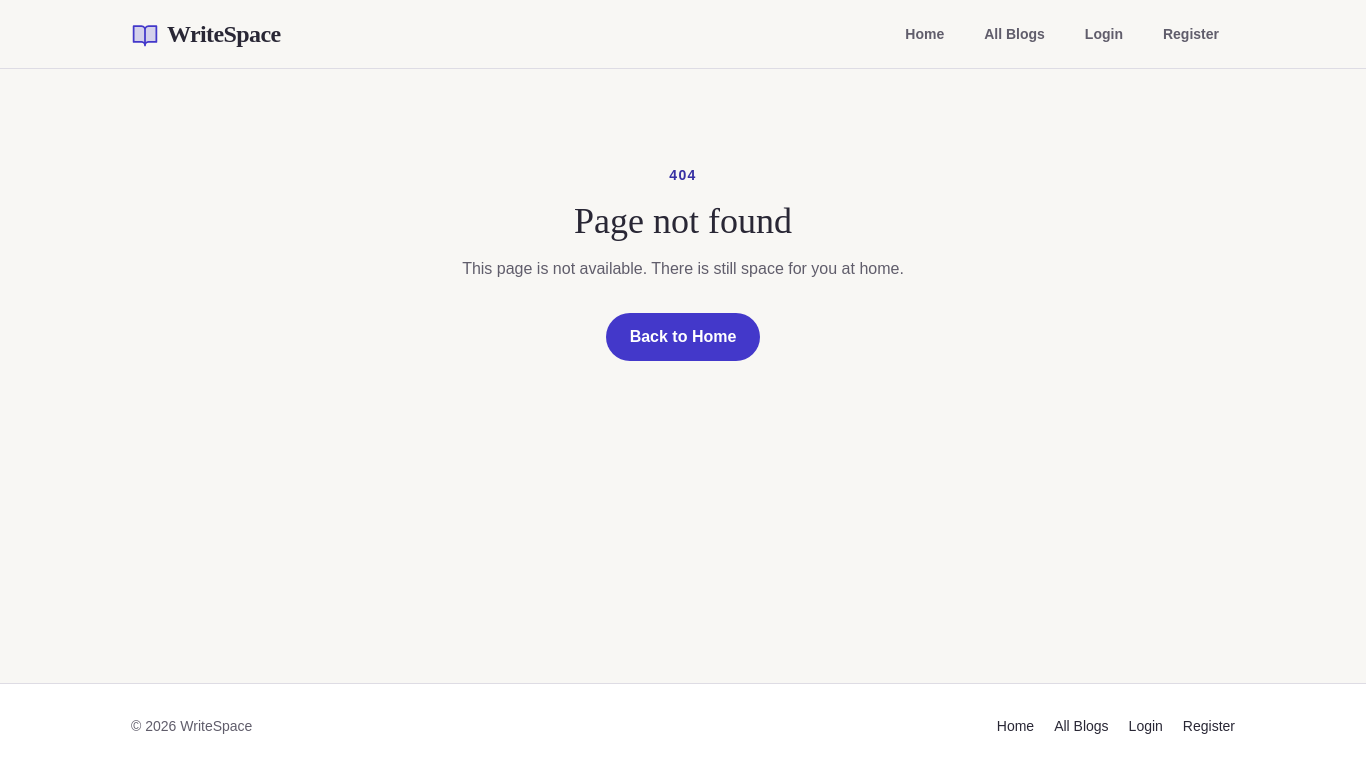
Scenario: working discovery shell › unknown routes render fallback with unchanged stored collections
Expected: the heading "Page not found" is shown, left=574, top=201, right=792, bottom=241
Click the link "Back to Home" at x=683, y=337, box left=606, top=313, right=760, bottom=361
(page scrolled)
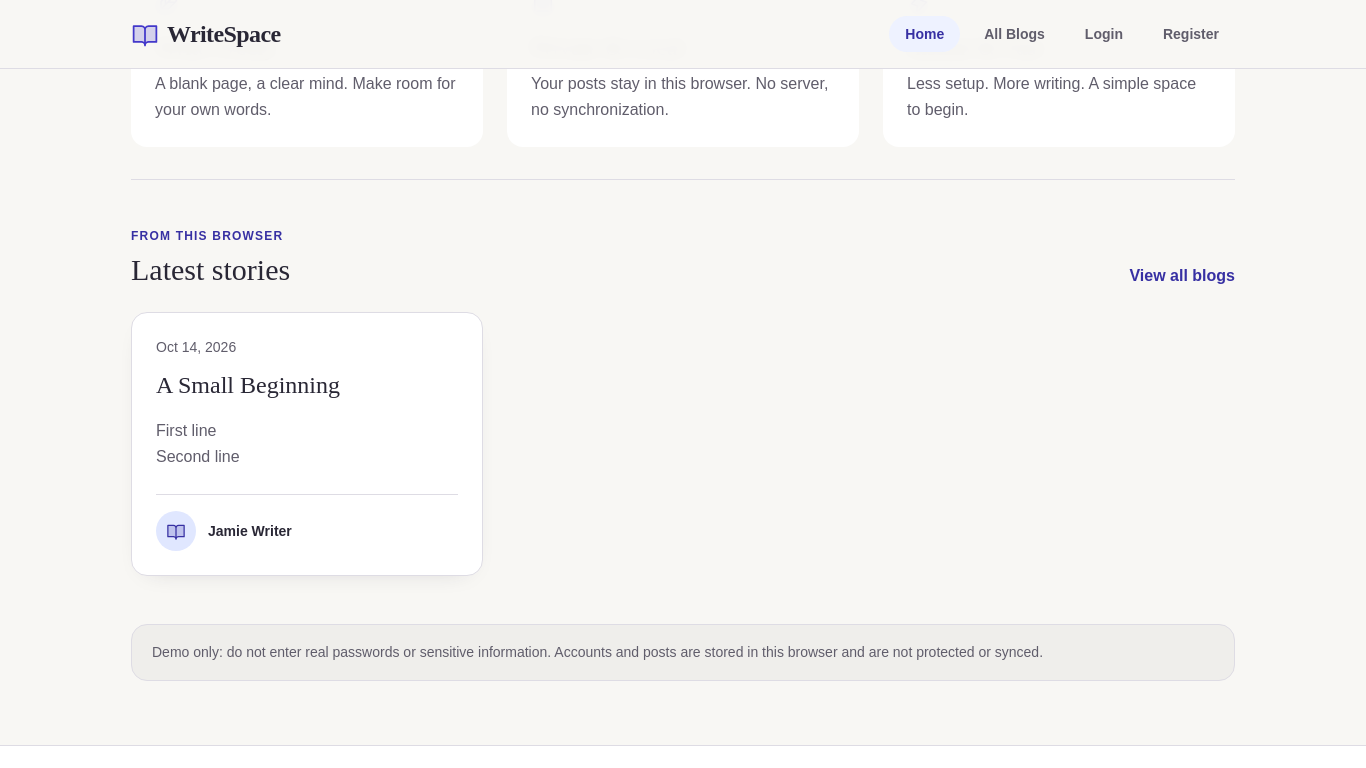
Result: the link "A Small Beginning" is shown at left=156, top=372, right=340, bottom=398
